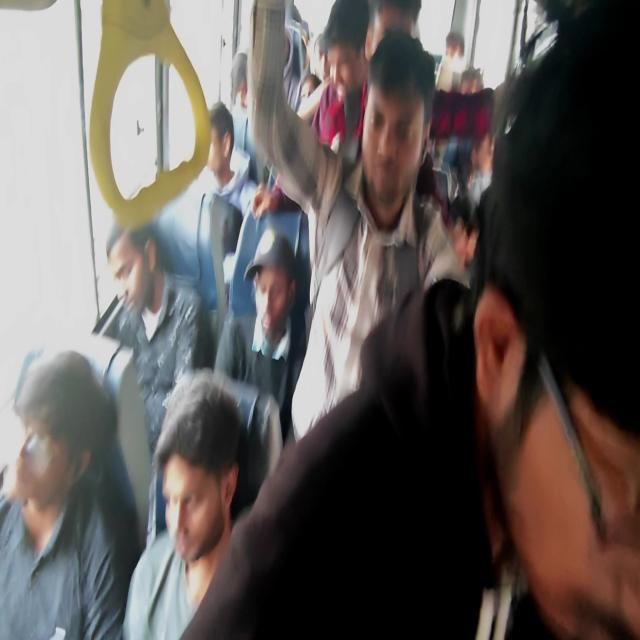person: (475, 85, 640, 640), (27, 368, 254, 639), (155, 434, 343, 640), (330, 5, 420, 170), (372, 54, 446, 174), (104, 226, 162, 368), (193, 47, 264, 119), (378, 7, 426, 83), (256, 231, 290, 335), (214, 86, 237, 206), (268, 0, 310, 63), (315, 39, 348, 110), (447, 166, 487, 224), (273, 147, 305, 208), (286, 83, 321, 123), (436, 27, 462, 75), (490, 68, 500, 156)
